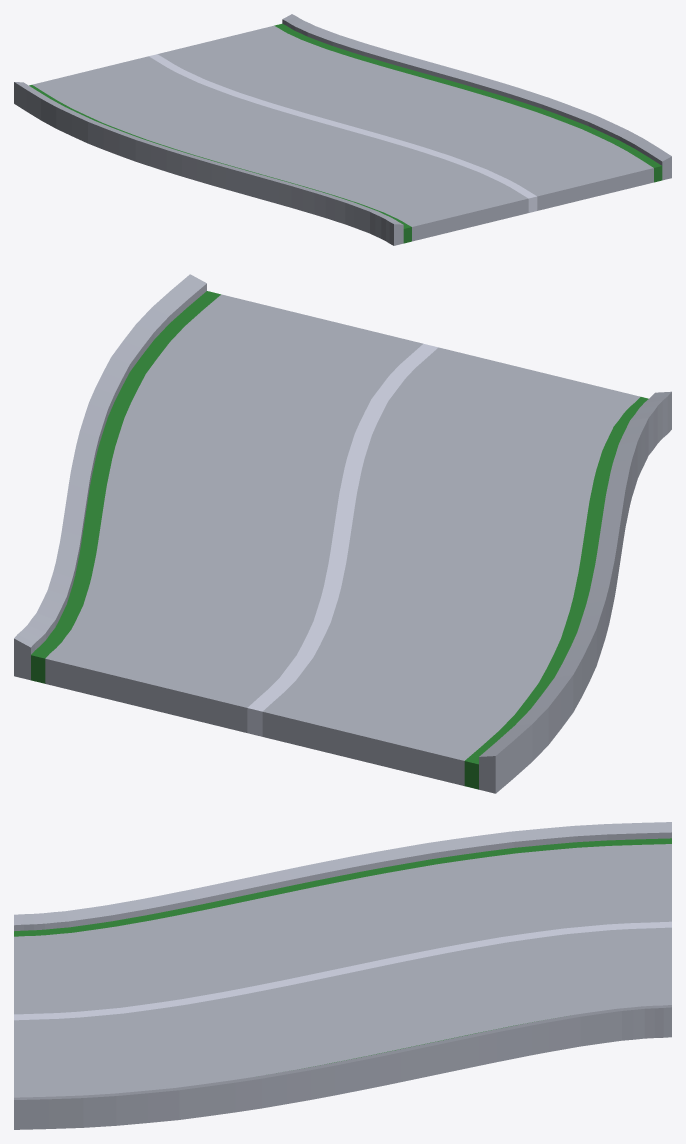
Rendered from flat_chicane_left.glb.
The picture shows the model from 3 angles, top to bottom: view 1: azimuth 30°, elevation 25°; view 2: azimuth 150°, elevation 25°; view 3: azimuth 270°, elevation 25°; orthographic projection. The views are drawn at different scales.
Parts seen in each view (by area): view 1: flat_chicane_left; view 2: flat_chicane_left; view 3: flat_chicane_left.
Part boxes in pixels (<box>): flat_chicane_left: <box>14,14,671,245</box>; flat_chicane_left: <box>14,274,671,793</box>; flat_chicane_left: <box>14,822,671,1129</box>.
Size of the model in its own units: 30.01 by 1.5 by 30.
